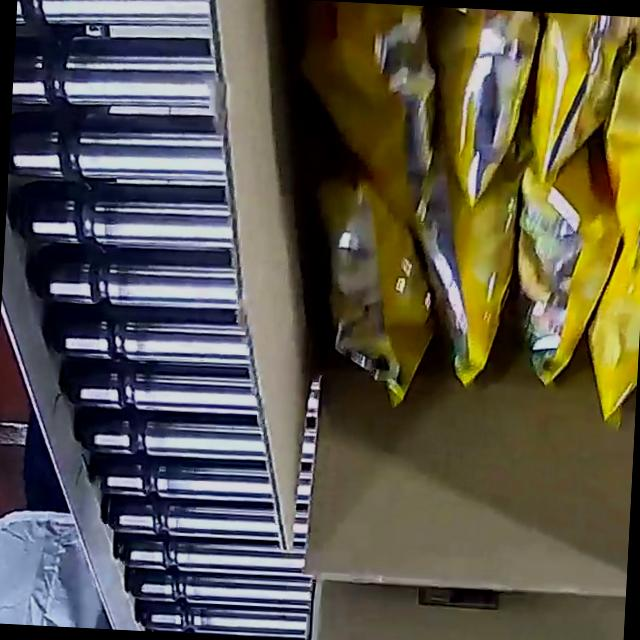salted: (307, 0, 640, 461)
